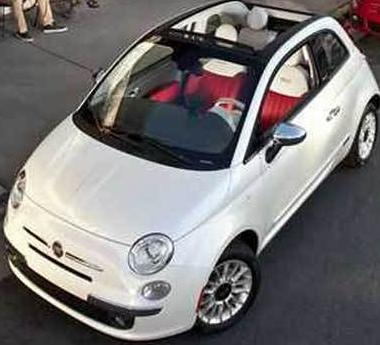front_view: (8, 167, 186, 338)
headlight: (122, 228, 183, 277)
side_glass: (253, 44, 329, 127)
